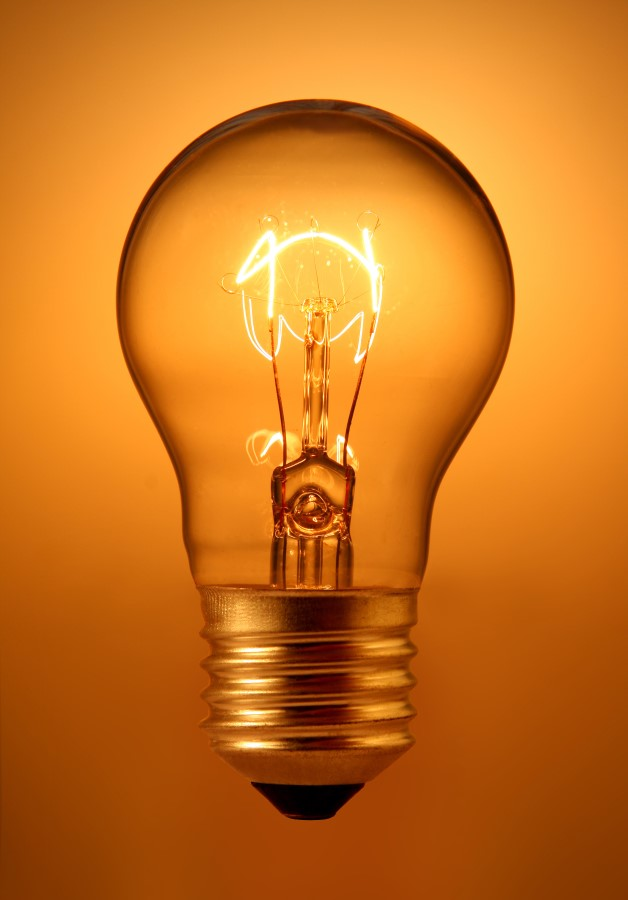Nonrec_Glass: (108, 90, 501, 828)
